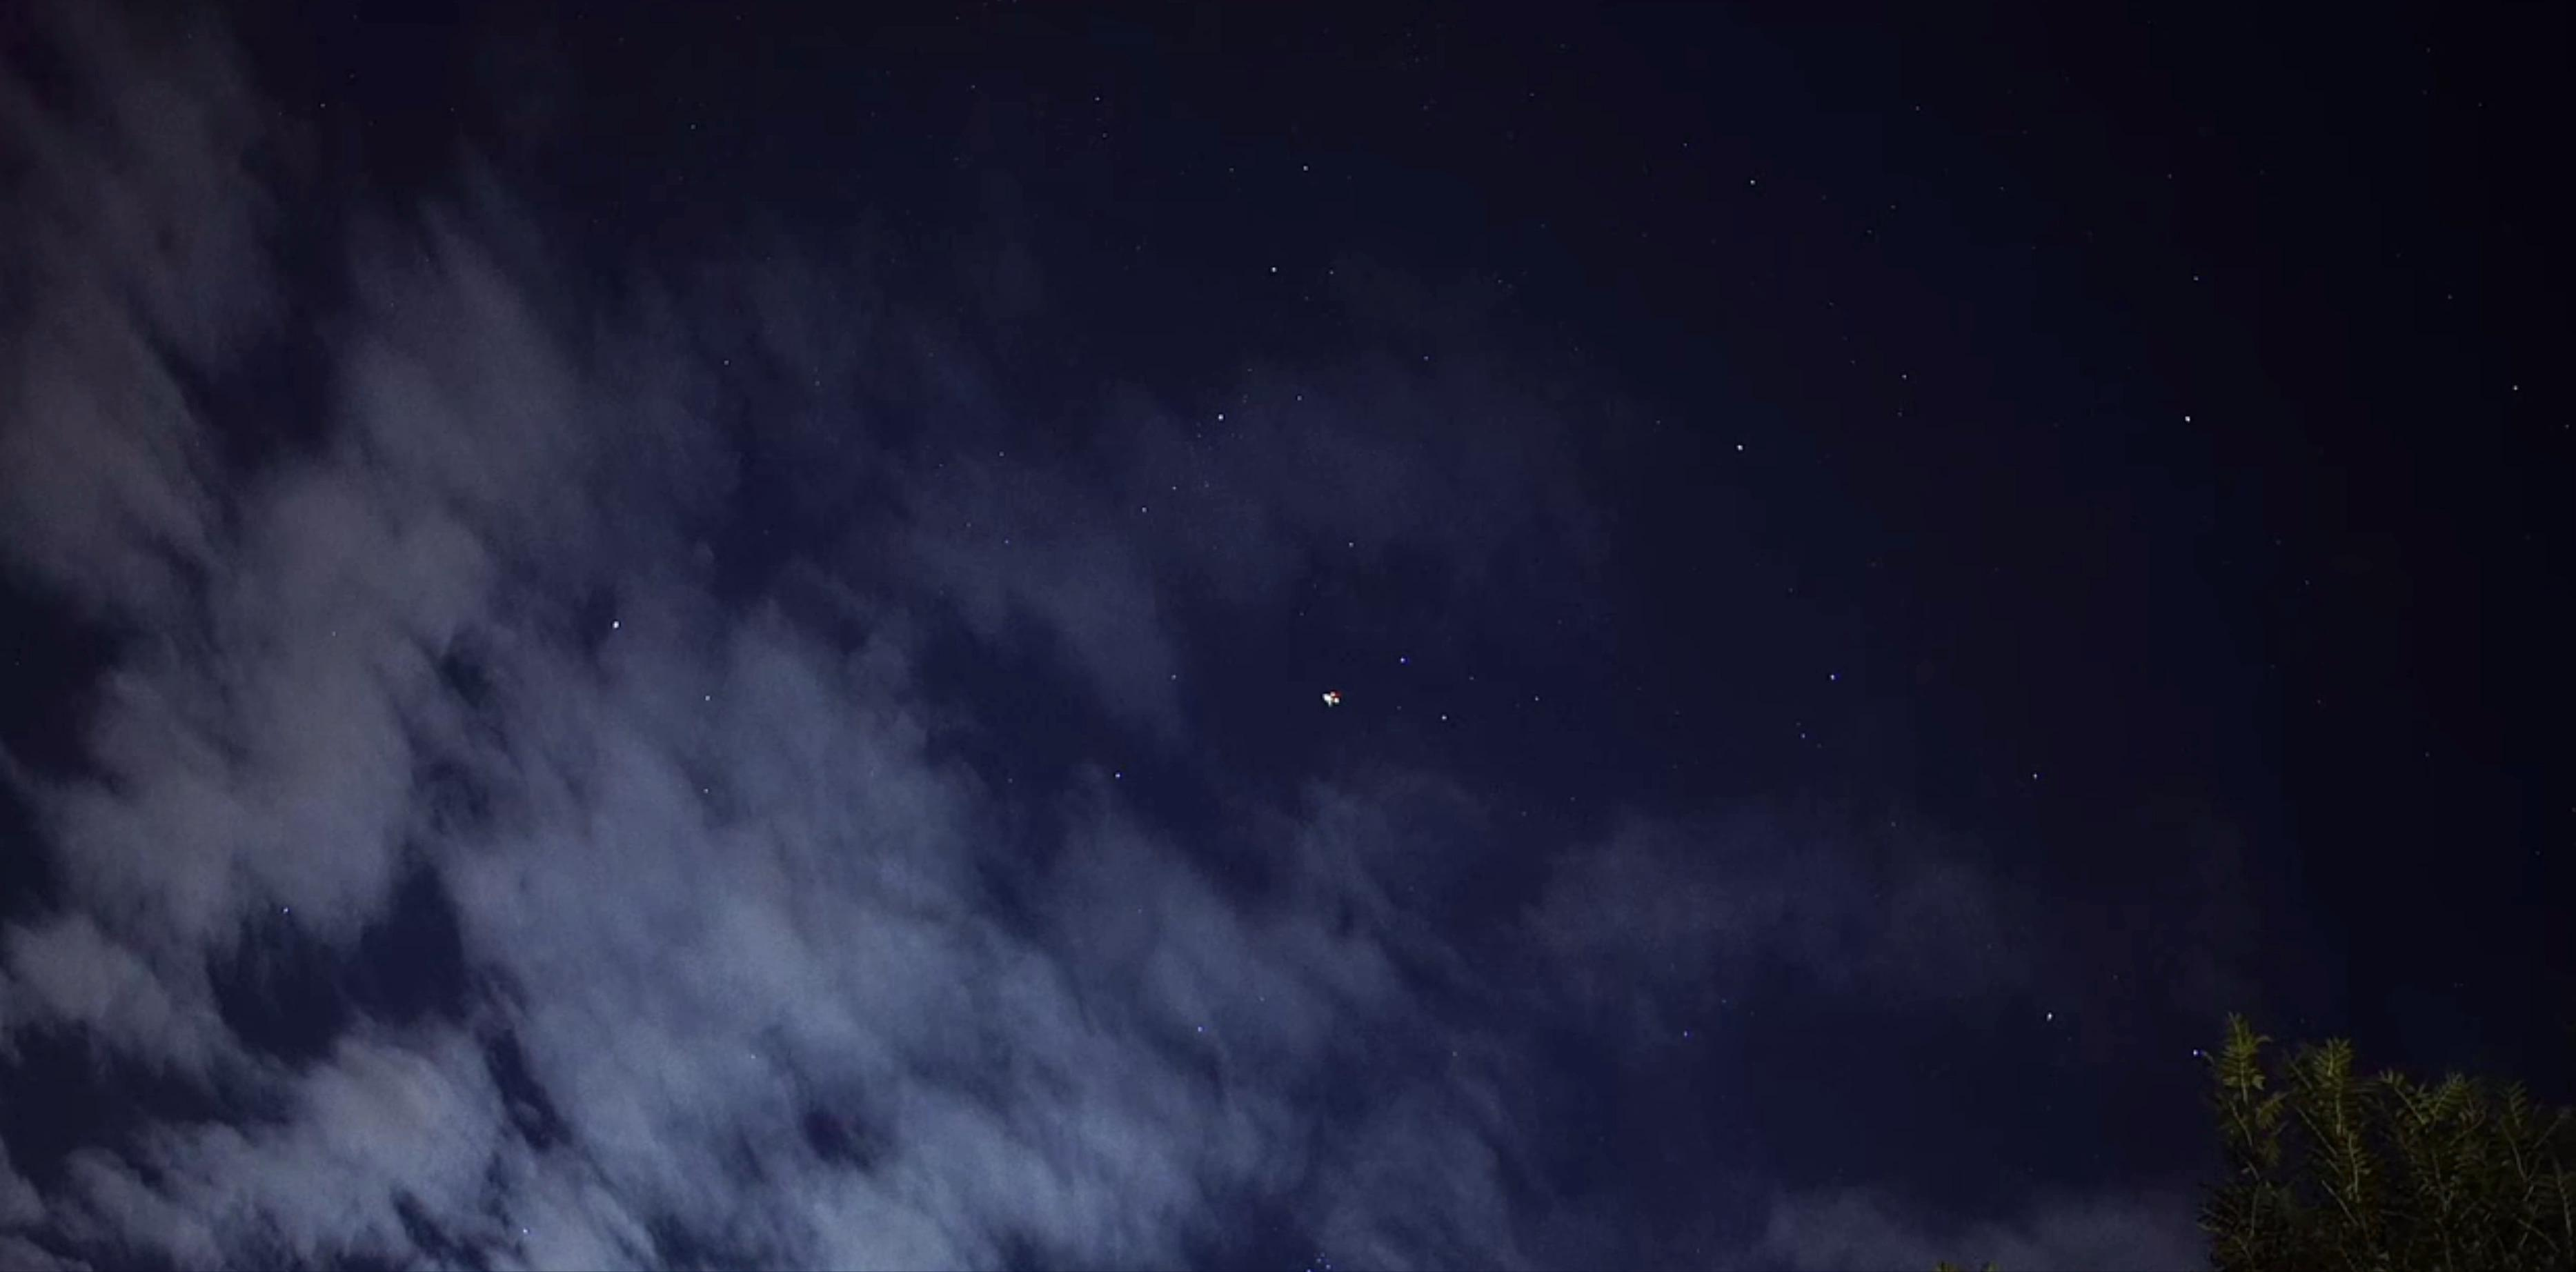Plane: (1303, 679, 1355, 715)
